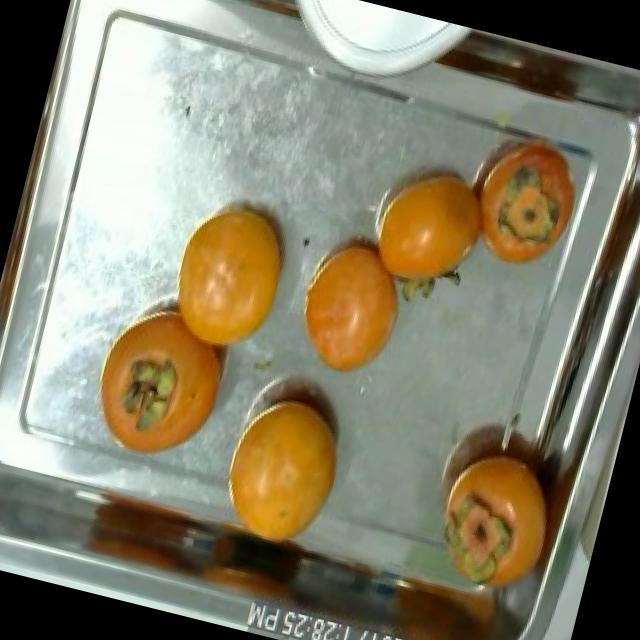Fruit: (76, 282, 247, 480), (204, 373, 366, 569), (408, 426, 568, 617), (438, 111, 603, 292), (154, 177, 308, 366), (277, 209, 429, 396), (355, 140, 508, 307), (414, 18, 597, 132)
